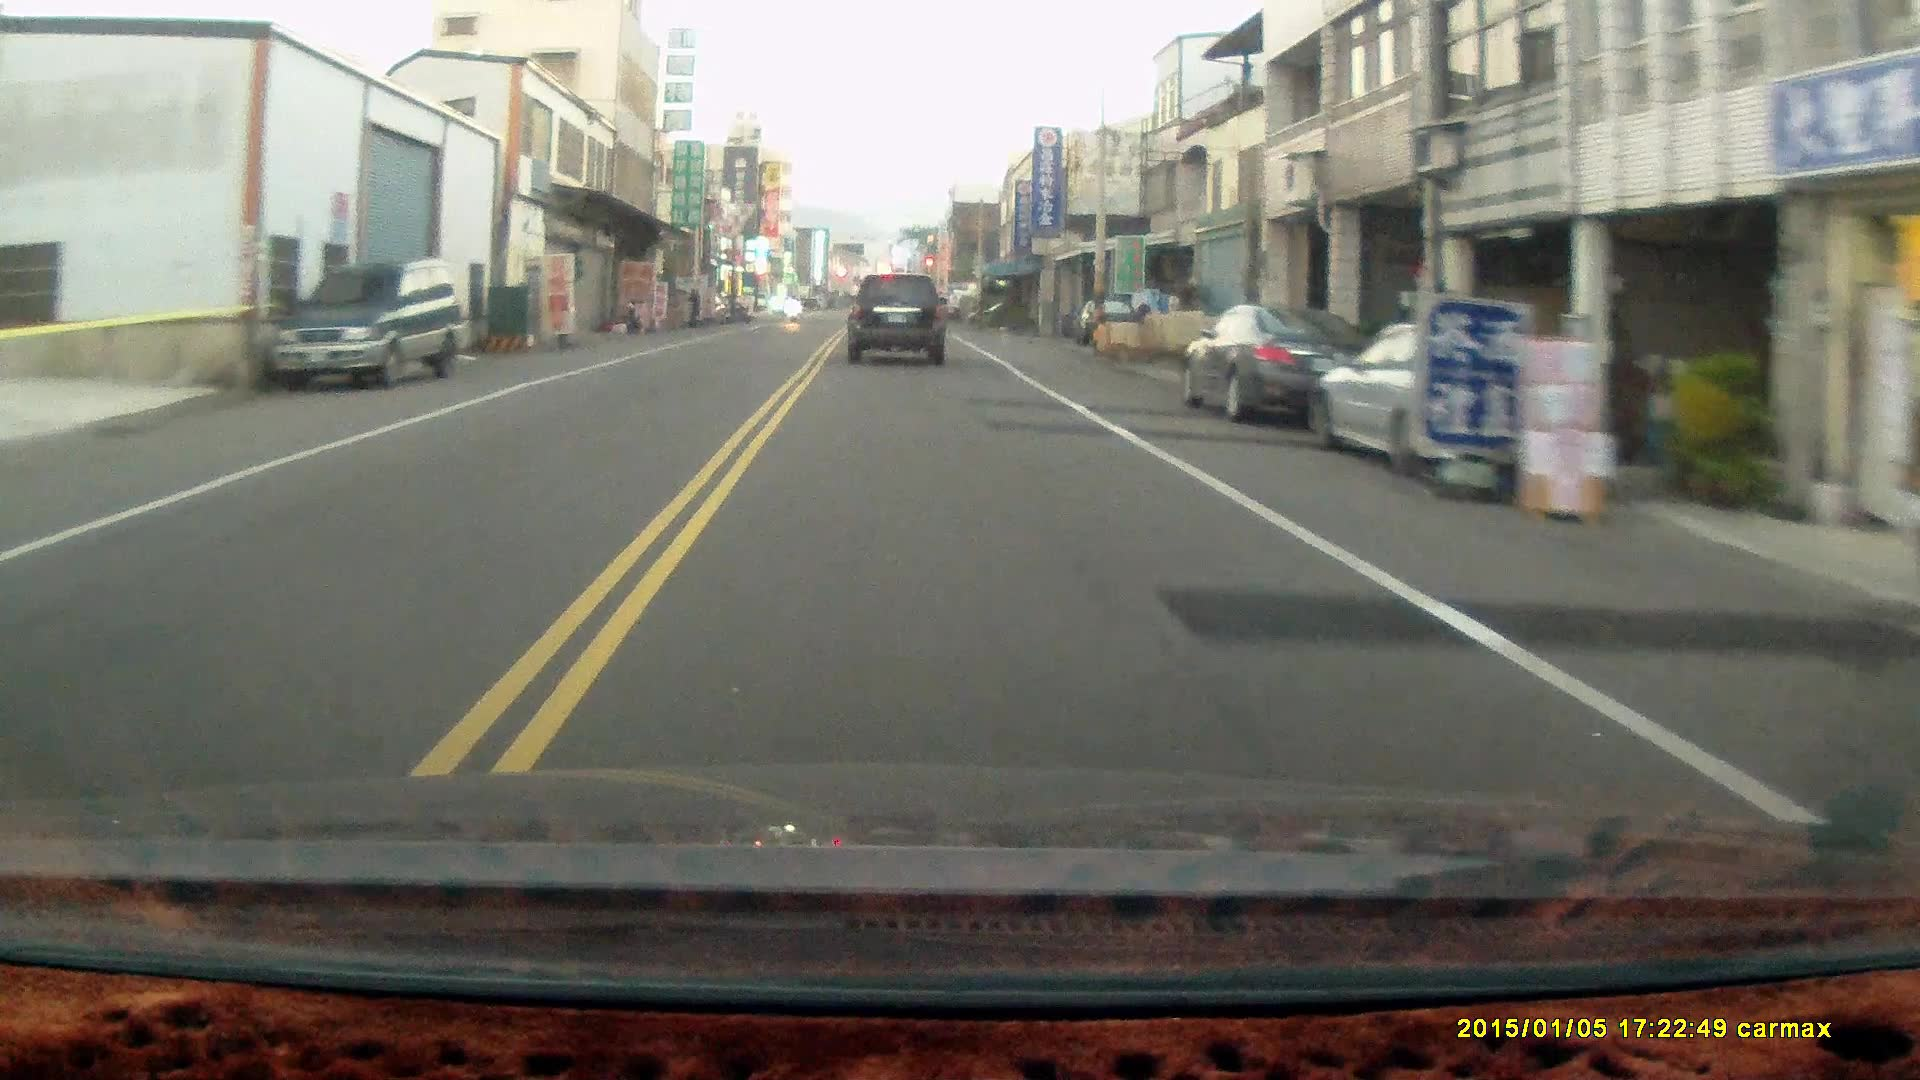pedestrian: (681, 285, 701, 330)
vehicle: (1311, 324, 1610, 488), (264, 254, 469, 393), (1177, 305, 1383, 427), (846, 272, 949, 367)
